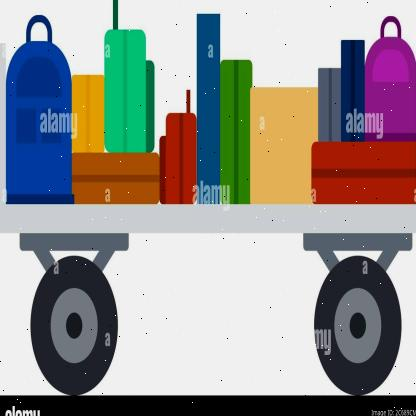airport-trolley: (0, 13, 416, 395)
